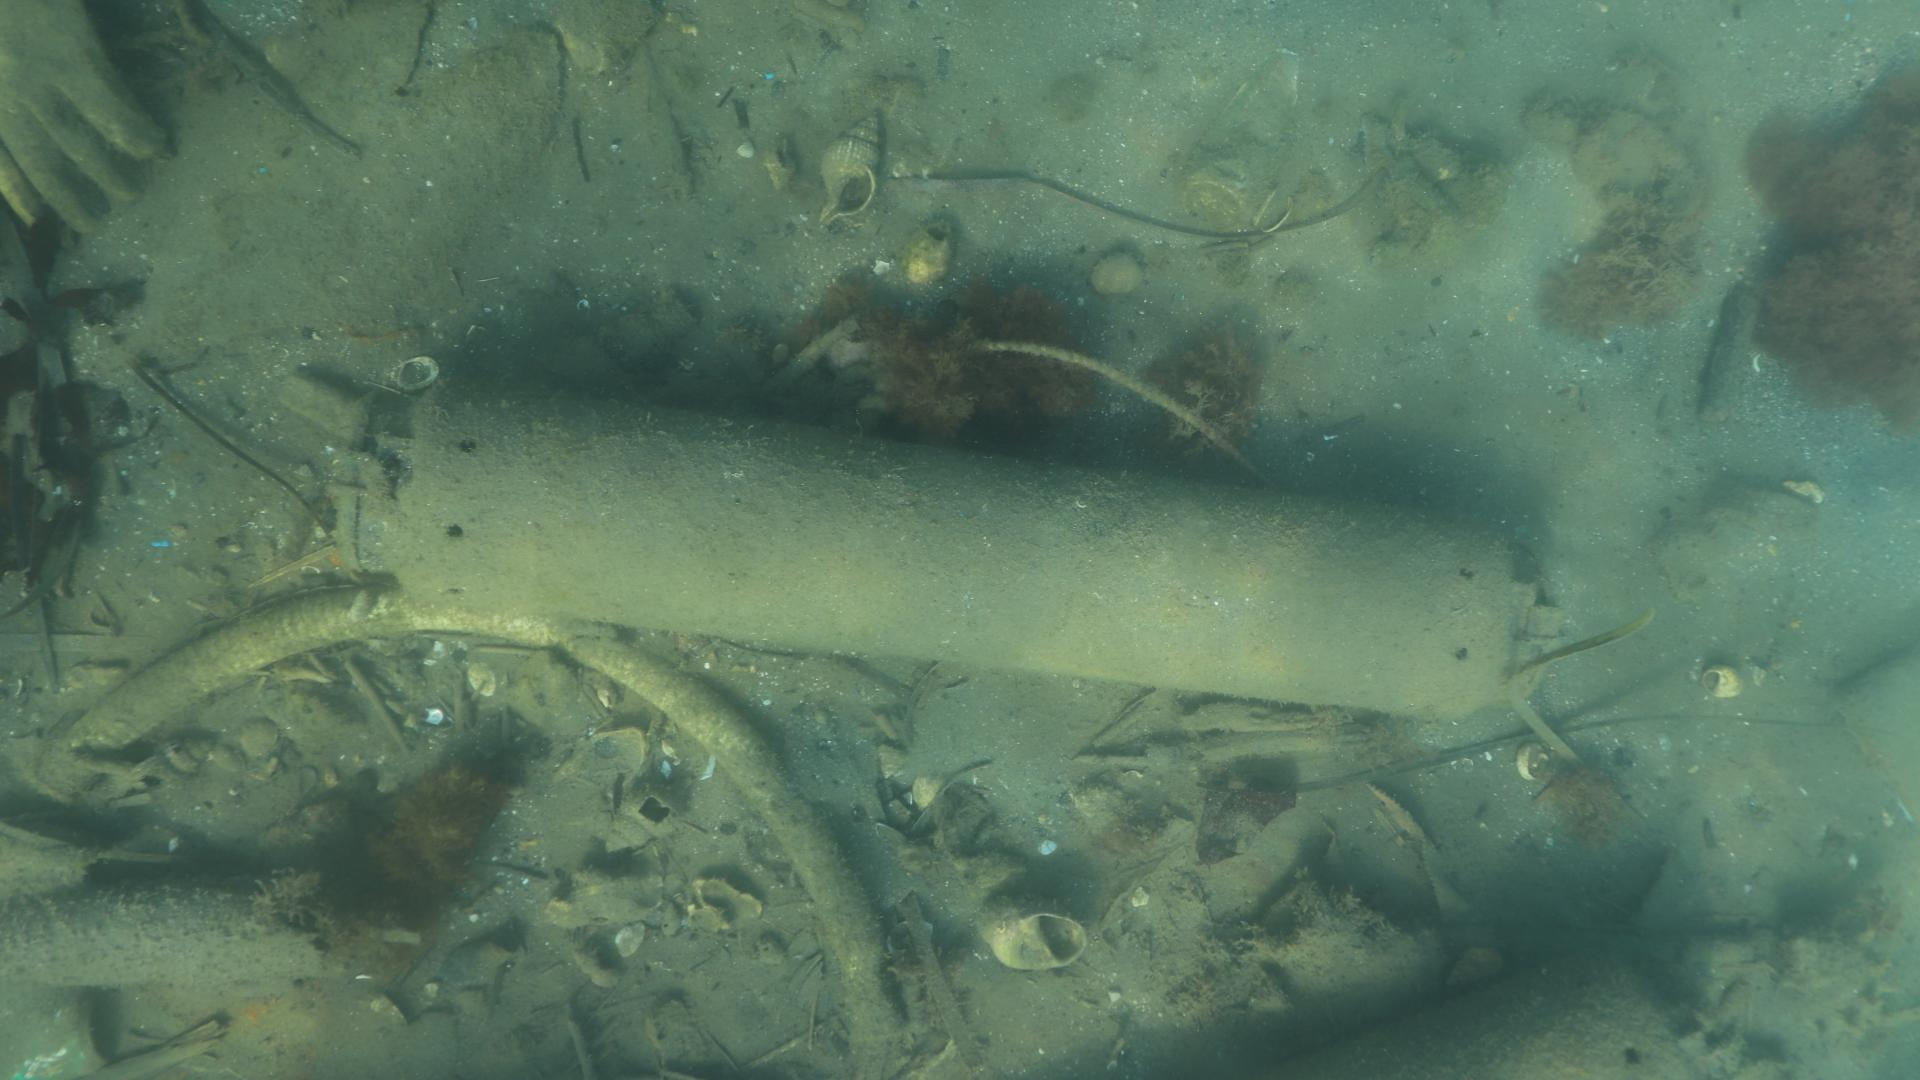eel fish trap: (323, 378, 1557, 720)
